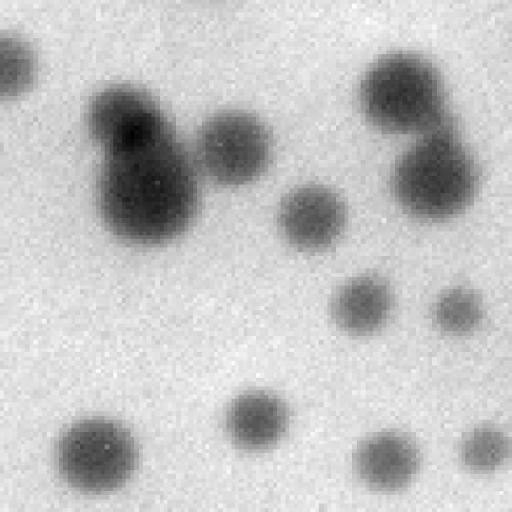Nanoparticles: (97, 146, 206, 252), (349, 46, 459, 138), (376, 135, 491, 219), (48, 405, 144, 502), (82, 81, 172, 153), (197, 108, 275, 190), (349, 423, 423, 500), (326, 268, 403, 340), (285, 178, 351, 254), (225, 386, 293, 456), (109, 107, 179, 167), (0, 25, 47, 102), (455, 416, 512, 479), (428, 288, 492, 335)
